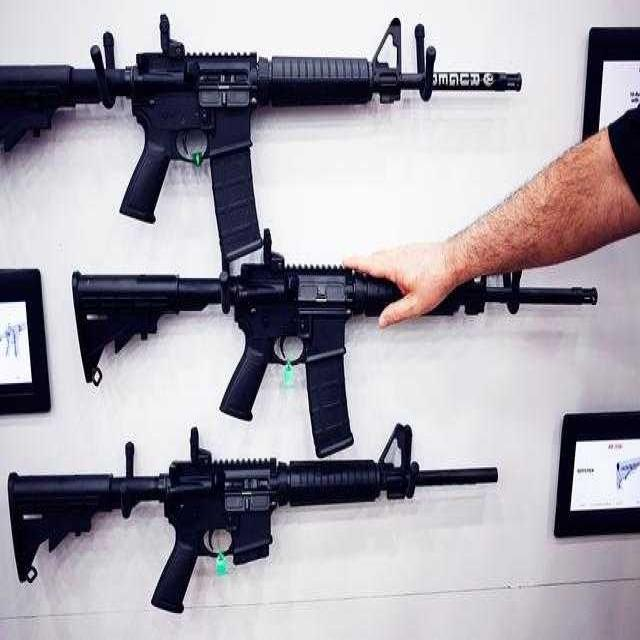heavyweapon: (1, 10, 542, 261), (66, 237, 612, 461), (10, 435, 516, 619)
